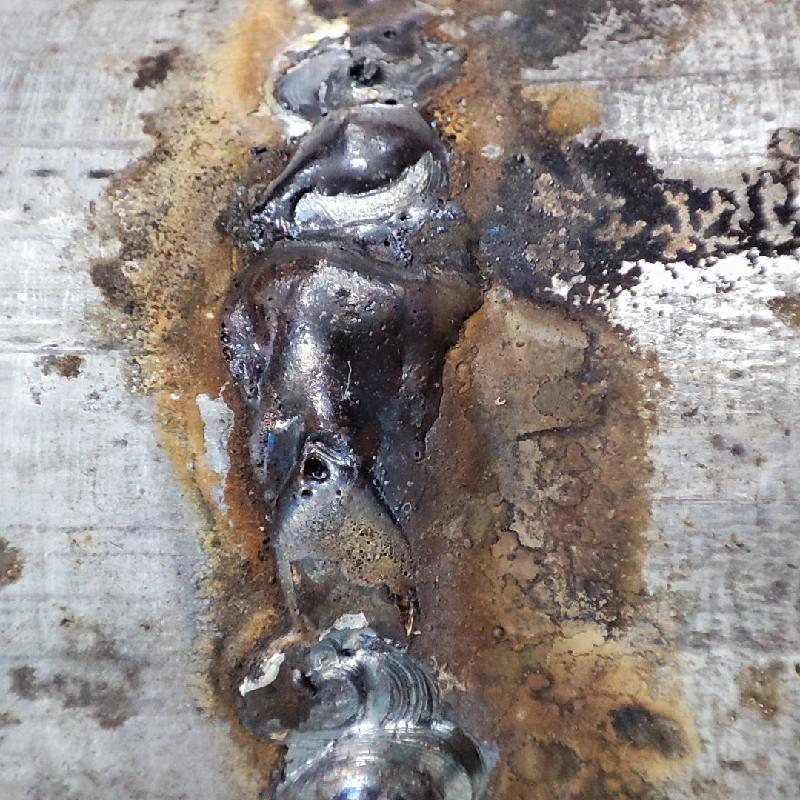Not_fully_soldered: (243, 0, 471, 108)
Surface_pores: (265, 436, 365, 508)
Weld: (204, 109, 491, 470)
crater: (212, 448, 470, 731)
